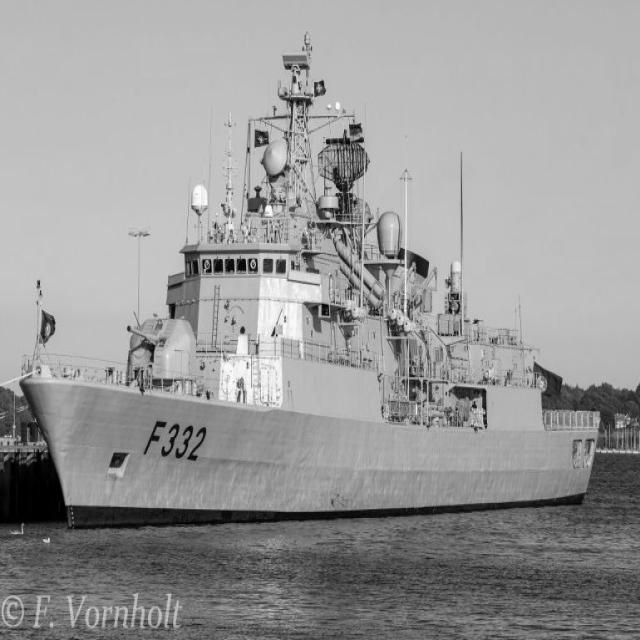Fragata: (17, 31, 604, 530)
